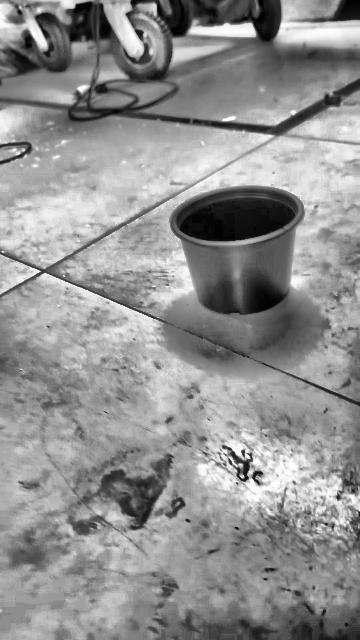pot: (169, 186, 303, 315)
